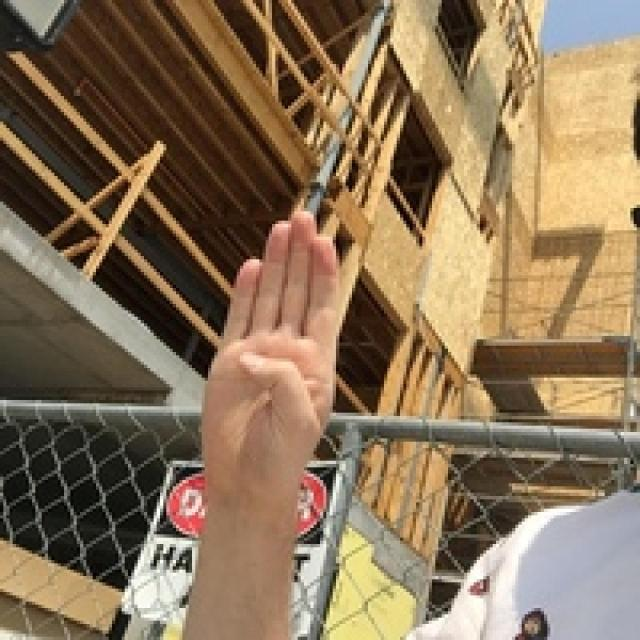B: (189, 172, 386, 503)
